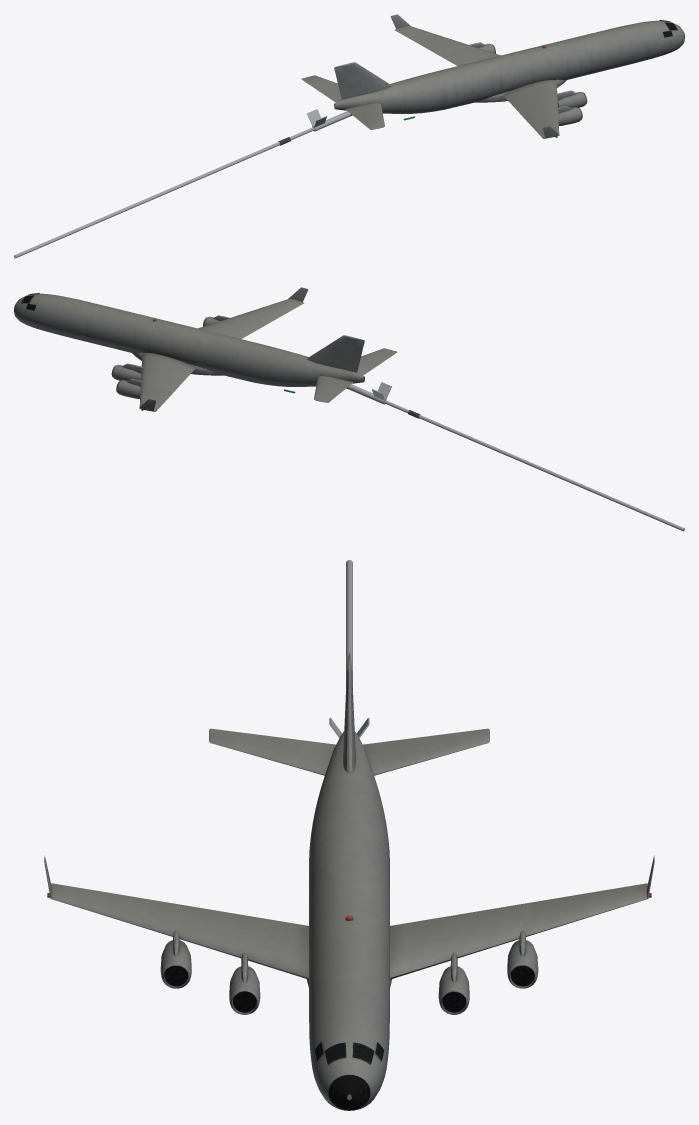
Rendered from fh_battle_a_tanker.glb.
3 views of the same model, one above another, from view 1: azimuth 30°, elevation 25°; view 2: azimuth 150°, elevation 25°; view 3: azimuth 270°, elevation 25° (orthographic). The views are drawn at different scales.
Visible parts, largest first — view 1: tanker, BoomTube, Boom; view 2: tanker, BoomTube, Boom; view 3: tanker.
Part boxes in pixels (x1,y1,x2,y2): tanker: (301,14,684,138); BoomTube: (14,127,314,258); Boom: (307,109,352,131); tanker: (14,287,397,411); BoomTube: (384,400,684,531); Boom: (346,382,391,404); tanker: (44,652,654,1110).
Size of the model in its own units: 1.92 by 0.3106 by 0.7577.
Materials: 5 (2 with a texture image).
